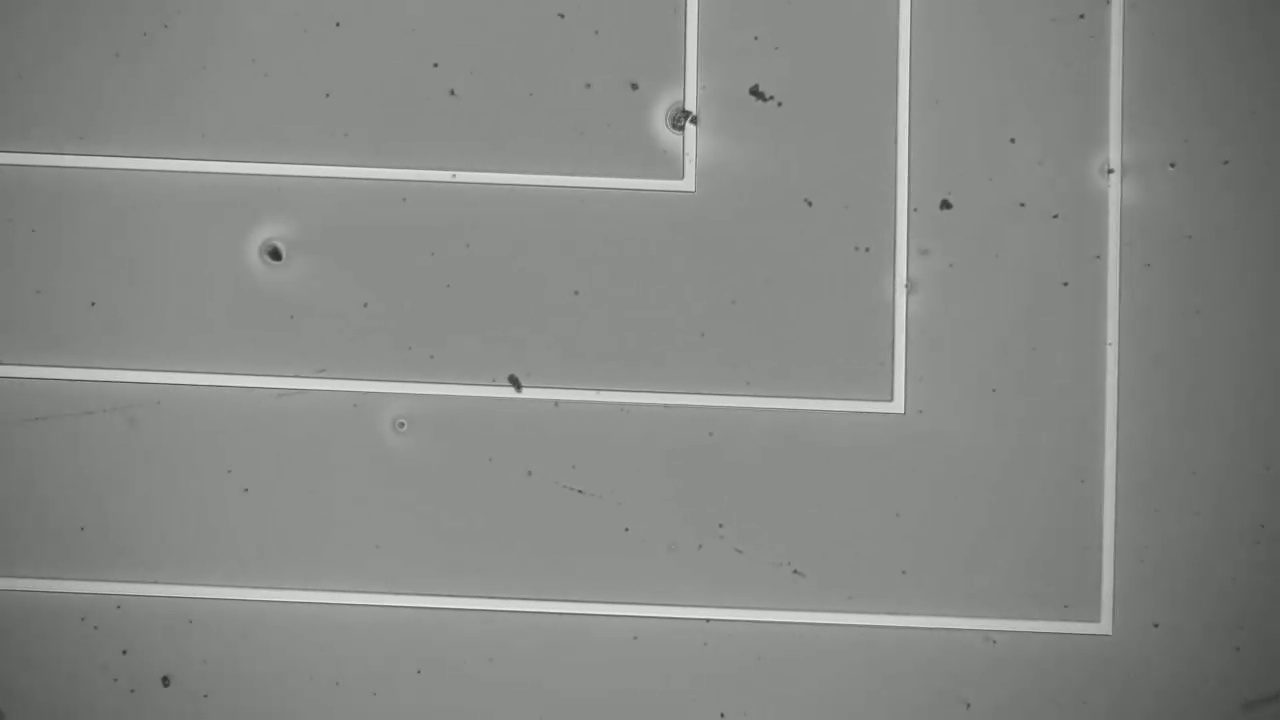stains_enbedded: (498, 367, 532, 403), (1093, 156, 1133, 186), (674, 104, 702, 138)
